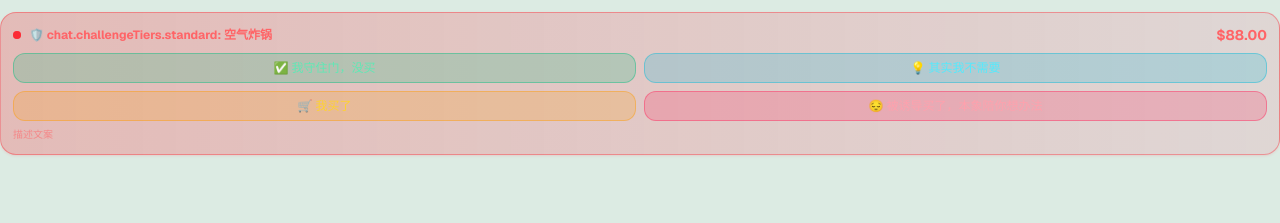
Test: ActiveChallengeBanner — 挑战横幅 › 点「我买了」→ 内联确认条出现（确定？+确定+再陪我看一看）
Click the button "🛒 我买了": point(324, 106) [13,91,636,121]
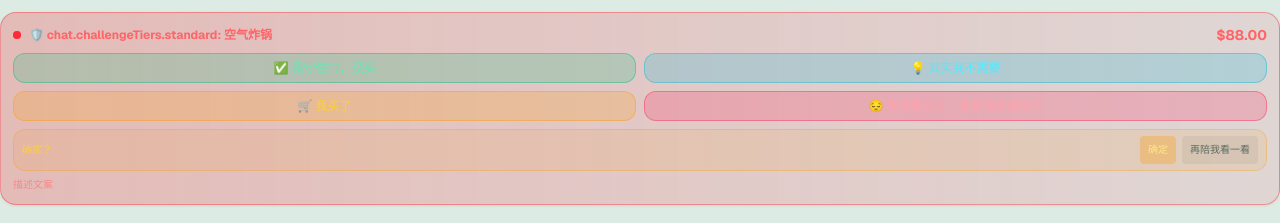
Check: the text "确定？" is shown, box [22,143,52,156]
Check: the button "确定" is shown, box [1140,136,1176,164]
Check: the button "再陪我看一看" is shown, box [1182,136,1258,164]
